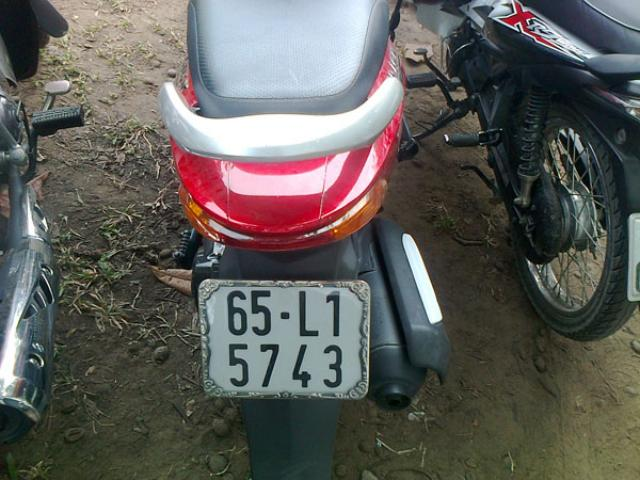plate: (201, 282, 367, 398)
